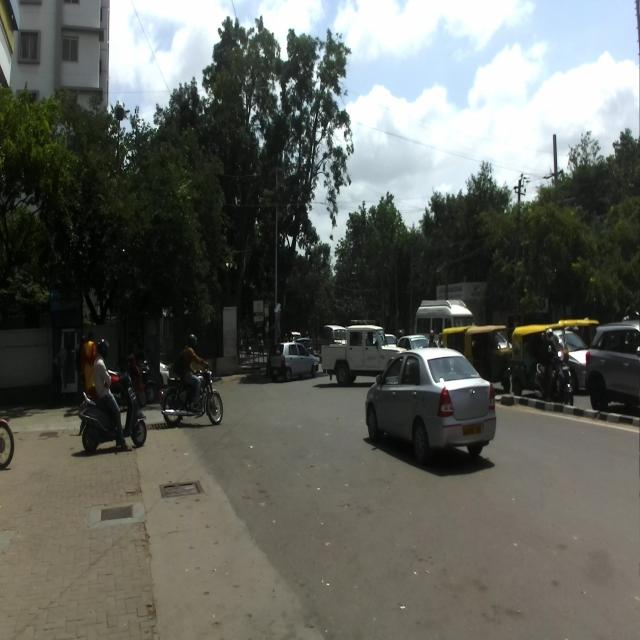autorickshaw: (510, 322, 569, 403)
car: (365, 348, 497, 464)
motorcycle: (158, 360, 225, 427)
scooter: (77, 360, 148, 453), (534, 344, 574, 406)
